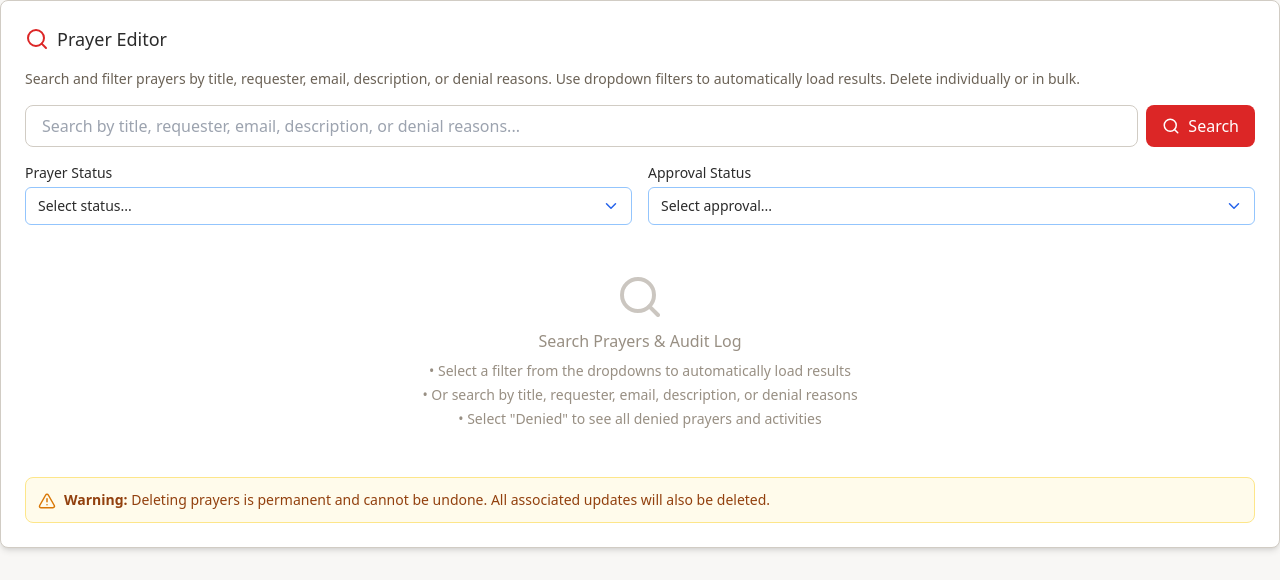
Scenario: PrayerSearch additional tests › includes prayers that have denied updates when approval filter is set to denied
Select the approval filter to 'denied' which should trigger the search effect
Step 1. Select "Denied" in the dropdown below "Approval Status" → (952, 206), box x1=648 y1=187 x2=1255 y2=225
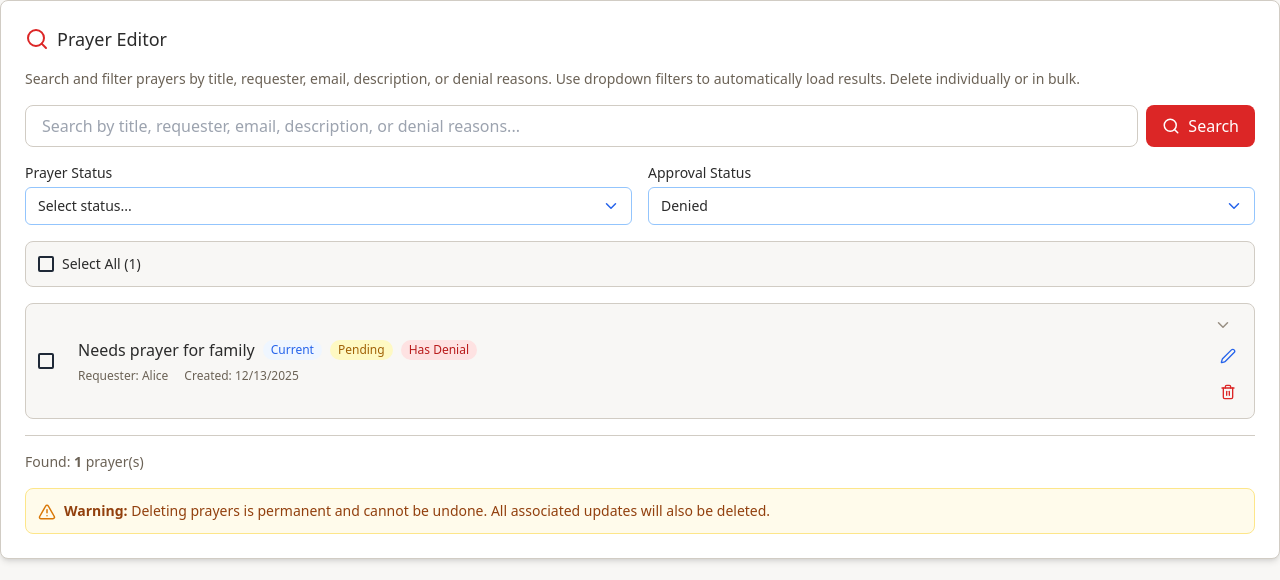
Check: the text "Found: 1 prayer(s)" is shown, box x1=25 y1=452 x2=144 y2=472
